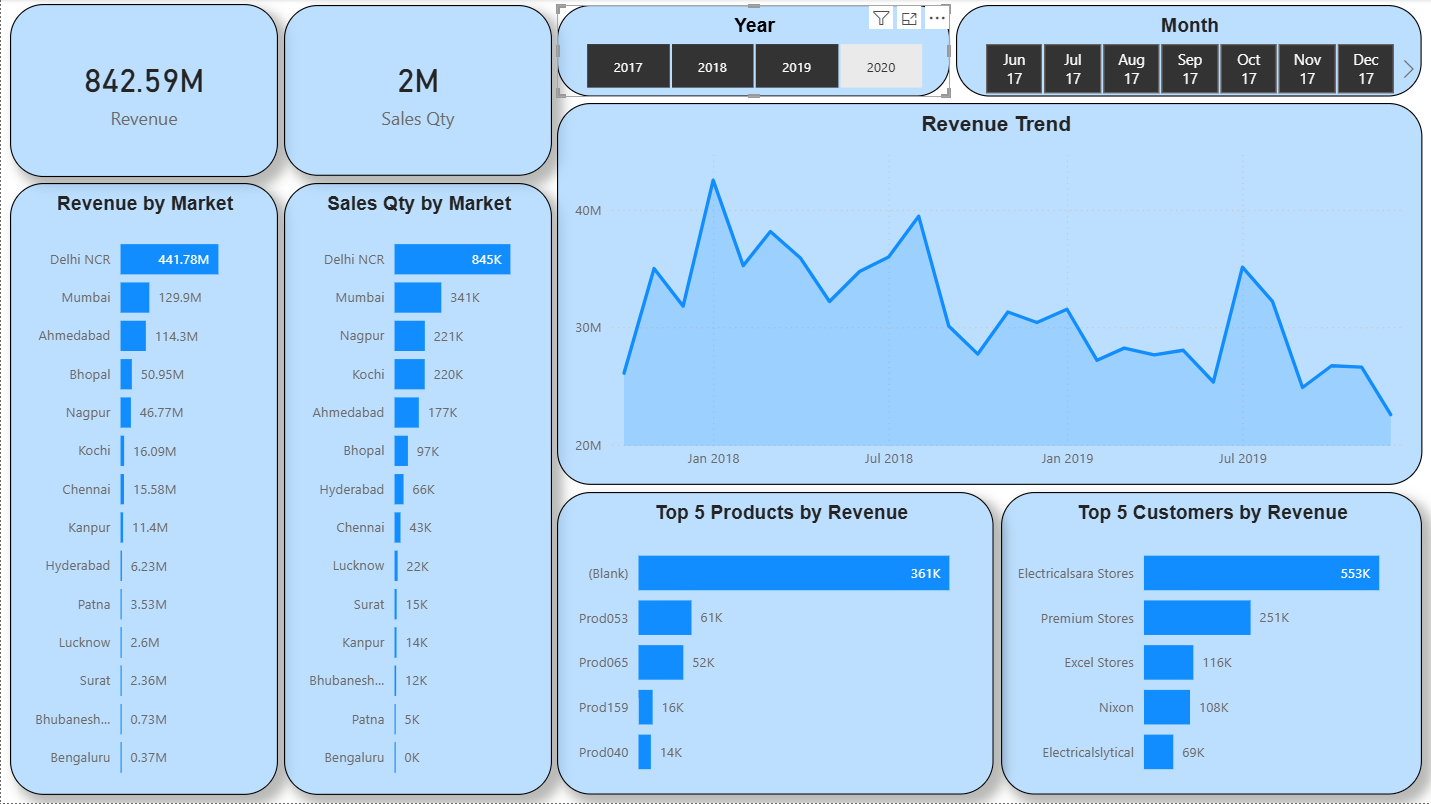

The page's visual inventory and layout, read from the dashboard file:
{"tool":"powerbi","page":{"name":"Page 1","canvas":[1280,720],"ordinal":0},"visuals":[{"type":"card","fields":{"Values":["BaseMeasures.Revenue"]},"box":[8.1,4.5,240,154.9],"z":0},{"type":"card","fields":{"Values":["BaseMeasures.Sales Qty"]},"box":[253.4,5.4,240,153.1],"z":1000},{"type":"barChart","title":"Revenue by Market","fields":{"Category":["markets.markets_name"],"Y":["BaseMeasures.Revenue"]},"box":[8.1,164.8,240,548.1],"z":2000},{"type":"barChart","title":"Sales Qty by Market","fields":{"Category":["markets.markets_name"],"Y":["BaseMeasures.Sales Qty"]},"box":[253.4,164.8,240,548.1],"z":3000},{"type":"slicer","title":"Month","fields":{"Values":["date.cy_date"]},"box":[855.2,5.4,417.3,82.4],"z":4000},{"type":"slicer","title":"Year","fields":{"Values":["date.year"]},"box":[497.9,5.4,352,82.4],"z":5000},{"type":"barChart","title":"Top 5 Customers by Revenue","fields":{"Category":["customers.custmer_name"],"Y":["BaseMeasures.Sales Qty"]},"box":[895.5,441.5,377,271.3],"z":6000},{"type":"barChart","title":"Top 5 Products by Revenue","fields":{"Category":["products.product_code"],"Y":["BaseMeasures.Sales Qty"]},"box":[497.9,441.5,391.3,271.3],"z":7000},{"type":"lineChart","title":"Revenue Trend","fields":{"Y":["BaseMeasures.Revenue"],"Category":["date.cy_date.Variation.Date Hierarchy.Year","date.cy_date.Variation.Date Hierarchy.Quarter","date.cy_date.Variation.Date Hierarchy.Month","date.cy_date.Variation.Date Hierarchy.Day"]},"box":[497.9,93.1,774.6,342],"z":8000}]}

Visuals, with their boxes in screenshot pixels (x1, y1, x2, y2), scaled from the page's 1280x720 canvas onto the 1431x804 screenshot:
card - BaseMeasures.Revenue: box=[9, 5, 277, 178]
card - BaseMeasures.Sales Qty: box=[283, 6, 552, 177]
"Revenue by Market" barChart: box=[9, 184, 277, 796]
"Sales Qty by Market" barChart: box=[283, 184, 552, 796]
"Month" slicer: box=[956, 6, 1423, 98]
"Year" slicer: box=[557, 6, 950, 98]
"Top 5 Customers by Revenue" barChart: box=[1001, 493, 1423, 796]
"Top 5 Products by Revenue" barChart: box=[557, 493, 994, 796]
"Revenue Trend" lineChart: box=[557, 104, 1423, 486]
